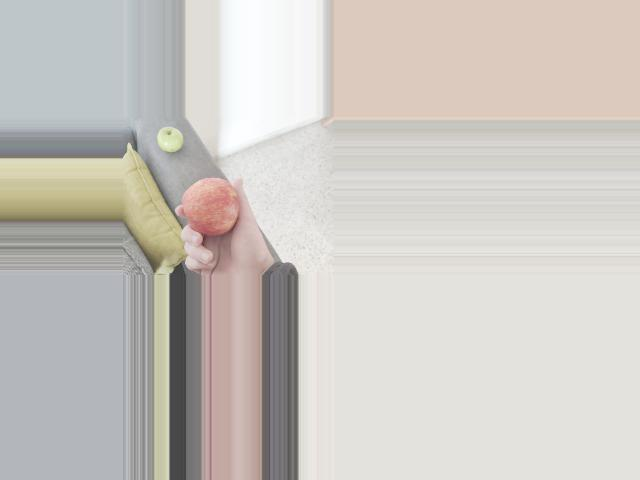apple: (149, 124, 184, 159)
